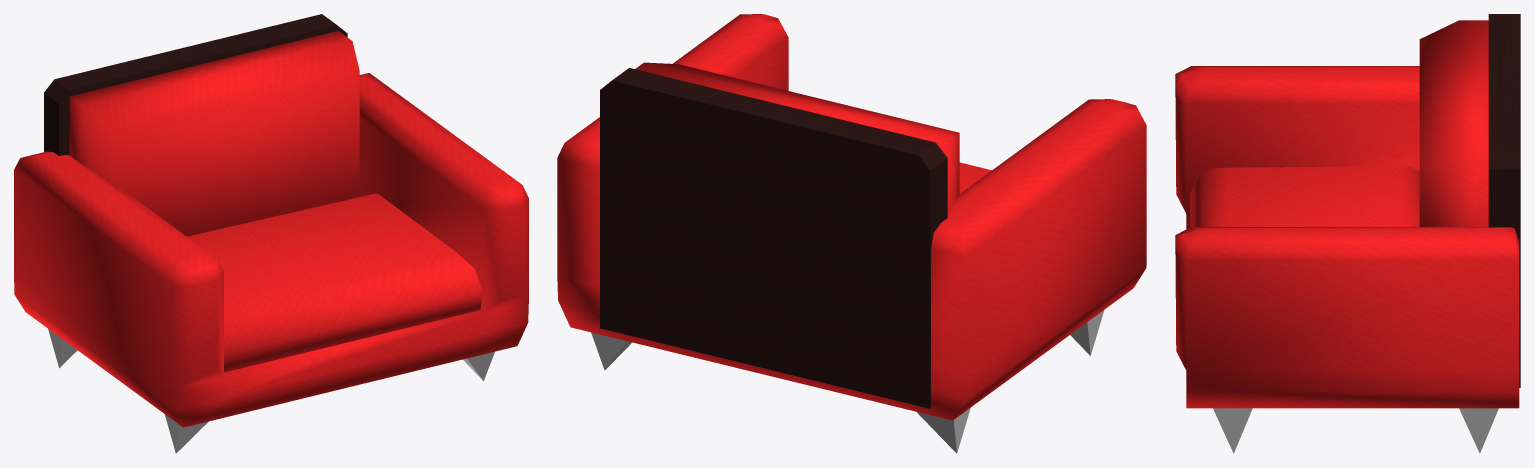
The model's file is Armchair_F_2.FBX.
3 views of the same model, side by side, from view 1: azimuth 30°, elevation 25°; view 2: azimuth 150°, elevation 25°; view 3: azimuth 270°, elevation 25° (orthographic). The views are drawn at different scales.
Parts seen in each view (by area): view 1: Flatback_Chair; view 2: Flatback_Chair; view 3: Flatback_Chair.
Boxes of the visible parts, left/top/right/bottom form: Flatback_Chair: left=14, top=14, right=528, bottom=453; Flatback_Chair: left=557, top=14, right=1146, bottom=453; Flatback_Chair: left=1175, top=14, right=1520, bottom=453.
Size of the model in its own units: 214 by 157 by 170.
